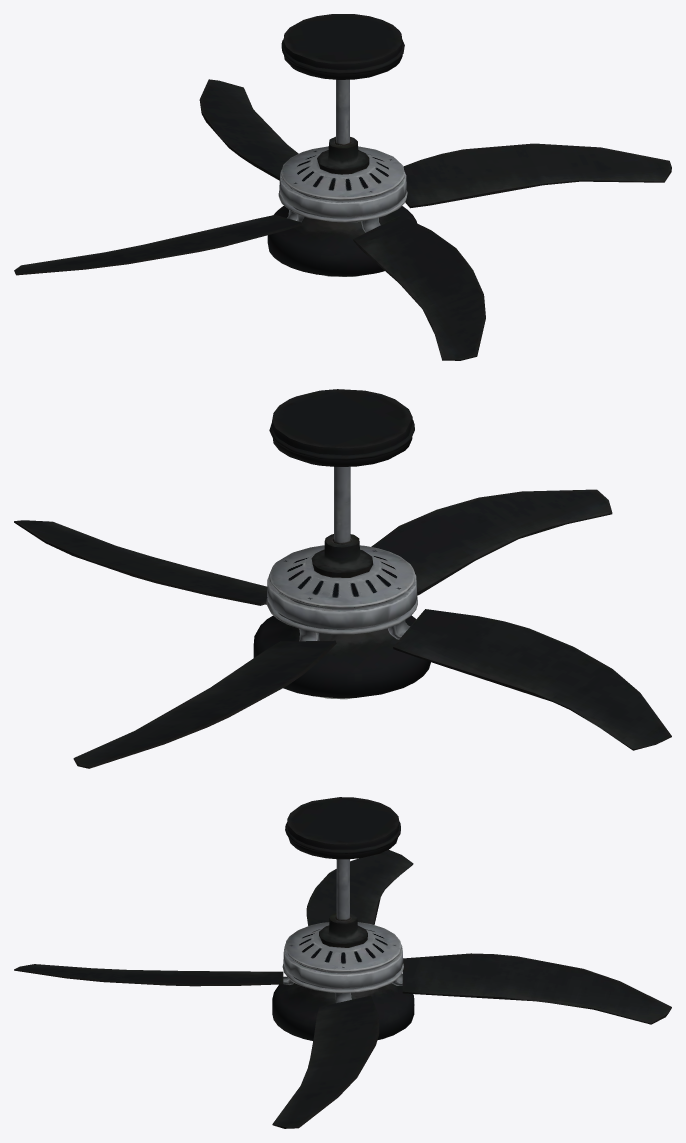
File: ceiling_fan.glb
The picture shows the model from 3 angles, top to bottom: view 1: azimuth 30°, elevation 25°; view 2: azimuth 150°, elevation 25°; view 3: azimuth 270°, elevation 25°; orthographic projection. The views are drawn at different scales.
Visible parts, largest first — view 1: ceiling_fan; view 2: ceiling_fan; view 3: ceiling_fan.
Boxes of the visible parts, x1,y1,x2,y2 form: ceiling_fan: [14, 14, 671, 360]; ceiling_fan: [14, 389, 671, 768]; ceiling_fan: [14, 797, 671, 1128].
Size of the model in its own units: 1.46 by 0.5163 by 1.46.
Materials: 1 (1 with a texture image).
